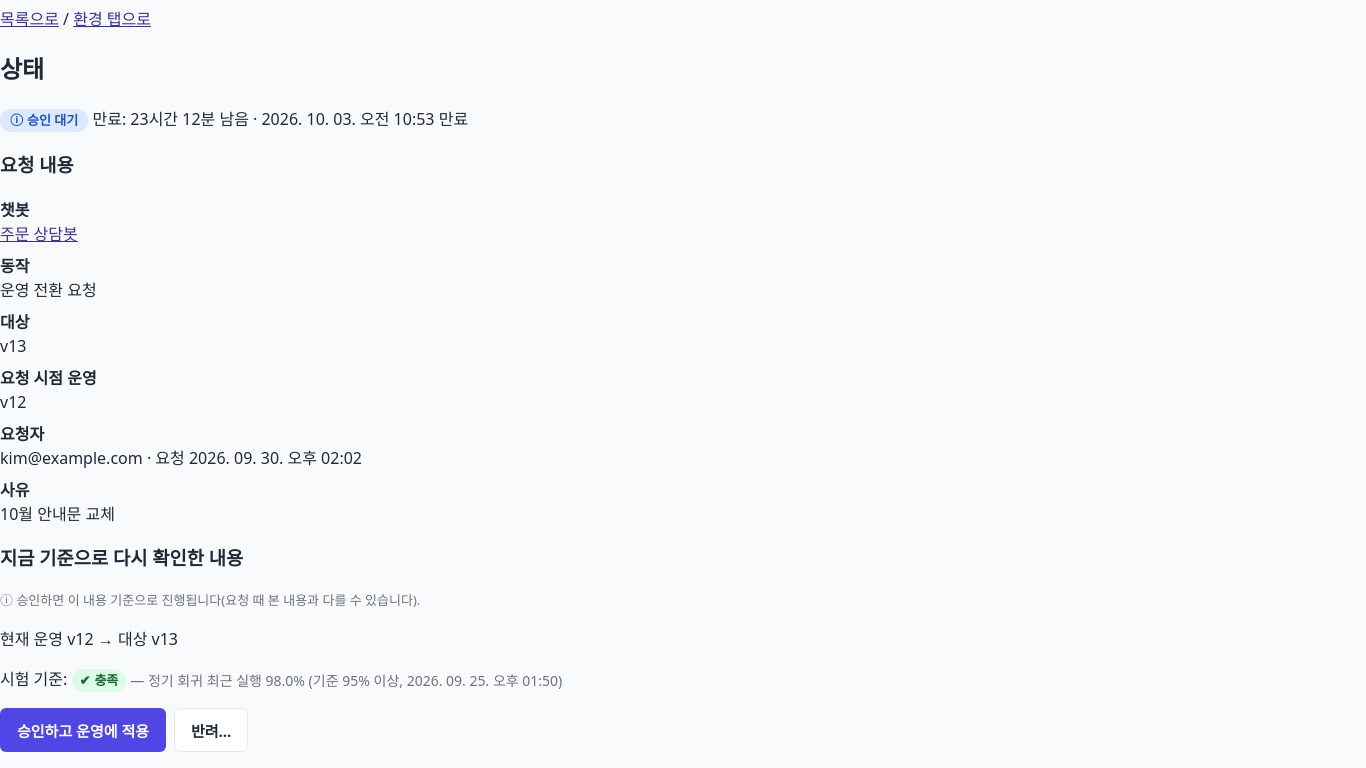
Test: AP-2 승인 요청 상세 › 승인이 409(이미 다른 관리자가 처리)면 안내를 보이고 상세를 다시 조회해 종결 상태를 그린다
(page scrolled)
Click the button "승인하고 운영에 적용" at {"x": 83, "y": 730}, box [0, 708, 166, 752]
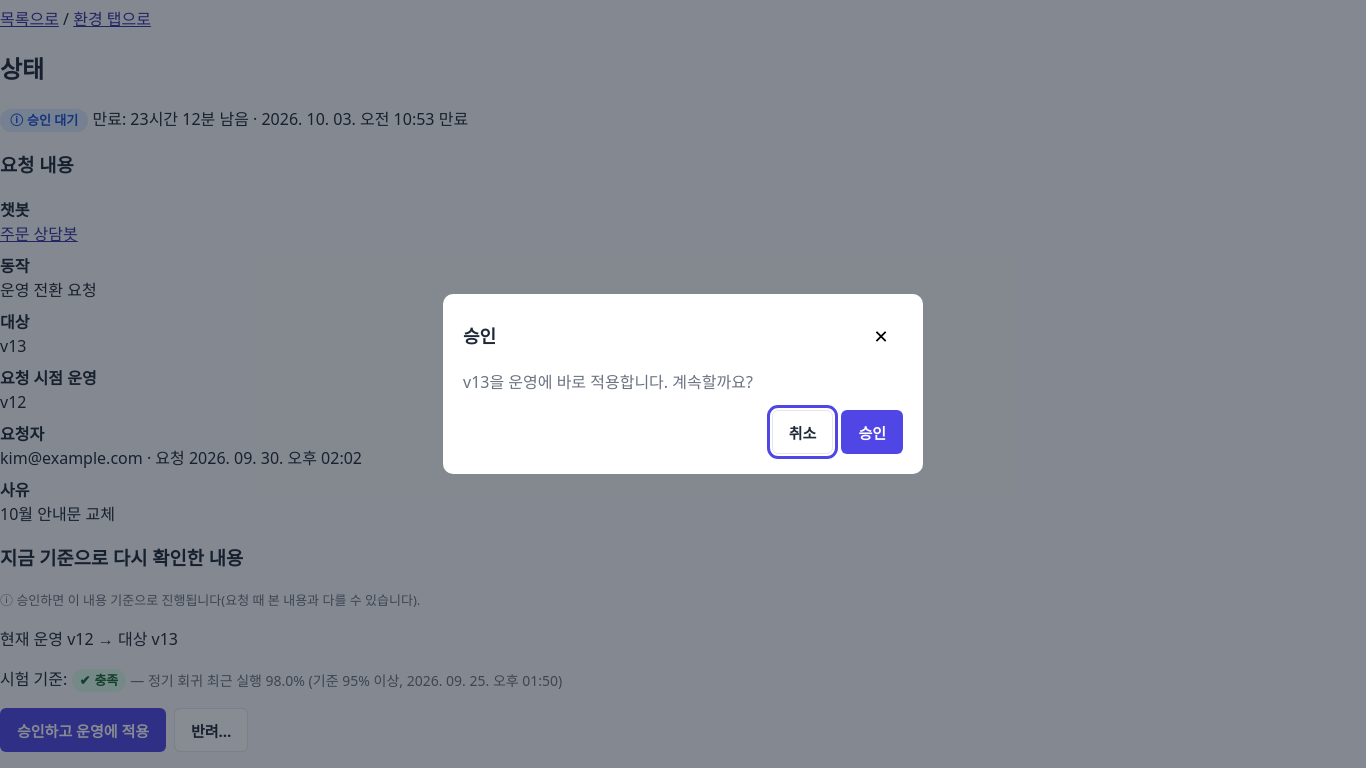
Click the button "승인" at {"x": 872, "y": 432}, box [841, 410, 903, 454]
(page scrolled)
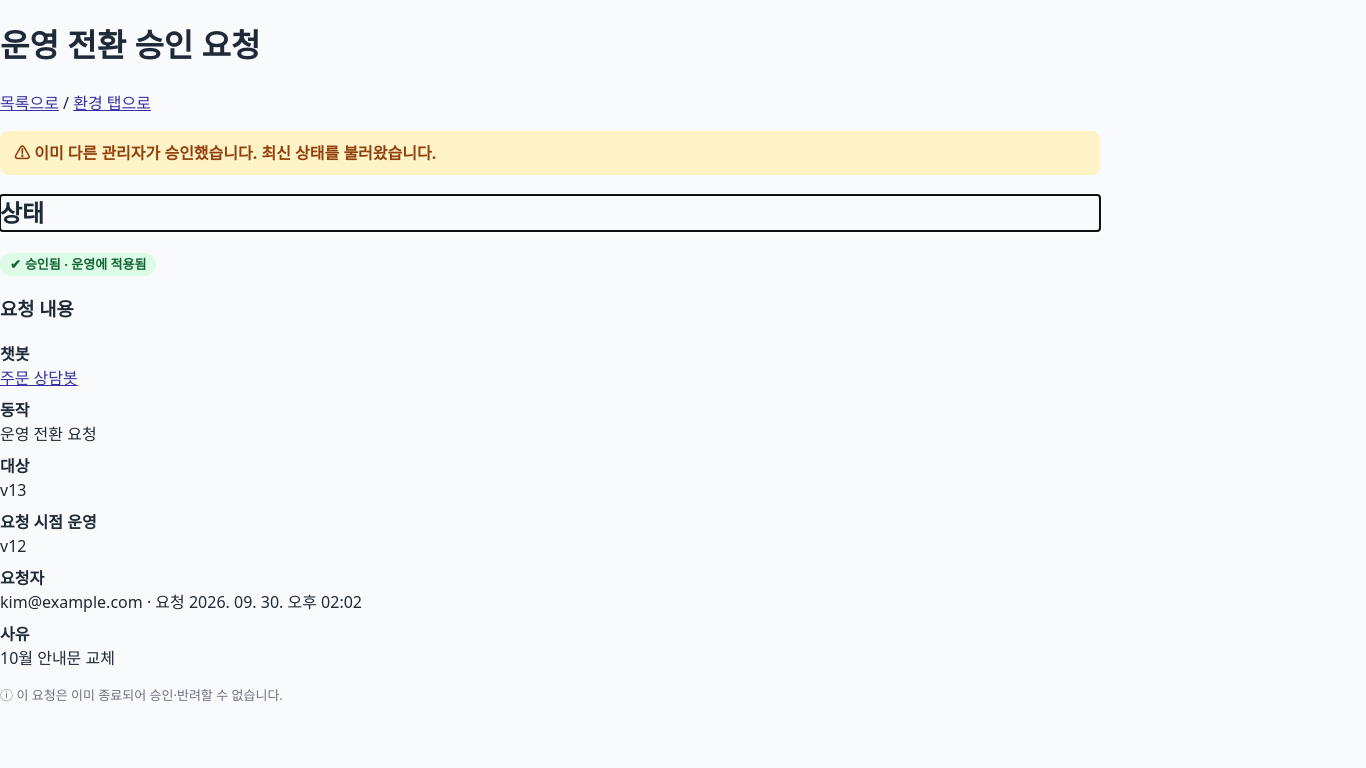
Check: the text "이미 다른 관리자가 승인했습니다. 최신 상태를 불러왔습니다." is shown, box [34, 142, 436, 164]
Check: the text "승인됨 · 운영에 적용됨" is shown, box [25, 255, 146, 273]
Check: the text "ⓘ 이 요청은 이미 종료되어 승인·반려할 수 없습니다." is shown, box [0, 686, 283, 704]
